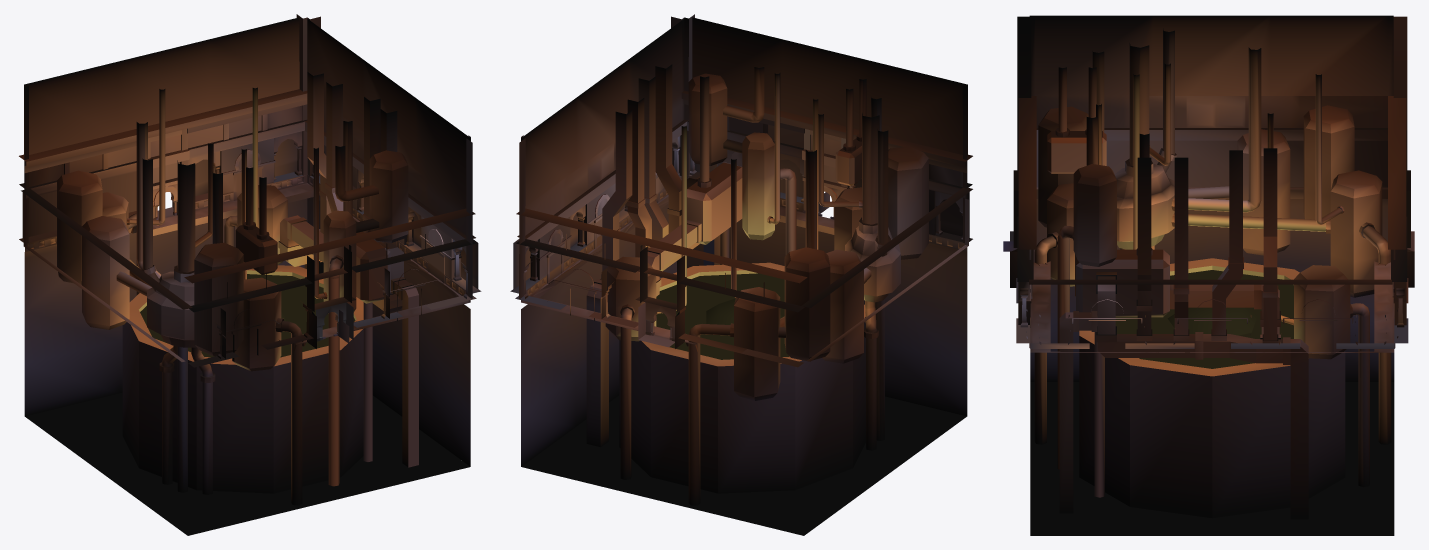
Rendered from 03Lava.gltf.
The picture shows the model from 3 angles, left to right: view 1: azimuth 30°, elevation 25°; view 2: azimuth 150°, elevation 25°; view 3: azimuth 270°, elevation 25°; orthographic projection. The views are drawn at different scales.
Visible parts, largest first — view 1: stg031_o32_Mesh_0074, stg031_o32_Mesh_0062, stg031_o32_Mesh_0008, stg031_o32_Mesh_0001, stg031_o32_Mesh_0000, stg031_o32_Mesh_0052, stg031_o32_Mesh_0056, stg031_o32_Mesh_0025, stg031_o32_Mesh_0033, stg031_o32_Mesh_0076, stg031_o32_Mesh_0077, stg031_o32_Mesh_0044 (+14 smaller); view 2: stg031_o32_Mesh_0074, stg031_o32_Mesh_0062, stg031_o32_Mesh_0001, stg031_o32_Mesh_0008, stg031_o32_Mesh_0000, stg031_o32_Mesh_0056, stg031_o32_Mesh_0052, stg031_g32_Mesh_0001, stg031_o32_Mesh_0025, stg031_o32_Mesh_0076, stg031_o32_Mesh_0033, stg031_o32_Mesh_0077 (+11 smaller); view 3: stg031_o32_Mesh_0074, stg031_o32_Mesh_0001, stg031_o32_Mesh_0062, stg031_o32_Mesh_0000, stg031_o32_Mesh_0008, stg031_o32_Mesh_0052, stg031_o32_Mesh_0056, stg031_o32_Mesh_0025, stg031_o32_Mesh_0058, stg031_g32_Mesh_0001, stg031_o32_Mesh_0077, stg031_o32_Mesh_0083 (+7 smaller).
Part boxes in pixels (box(x1,y1,x2,y2)): stg031_o32_Mesh_0074: box(57, 72, 418, 467); stg031_o32_Mesh_0062: box(24, 17, 468, 206); stg031_o32_Mesh_0008: box(24, 190, 470, 535); stg031_o32_Mesh_0001: box(122, 270, 363, 493); stg031_o32_Mesh_0000: box(116, 87, 379, 505); stg031_o32_Mesh_0052: box(19, 14, 481, 367); stg031_o32_Mesh_0056: box(24, 197, 470, 413); stg031_o32_Mesh_0025: box(127, 183, 413, 382); stg031_o32_Mesh_0033: box(29, 105, 465, 348); stg031_o32_Mesh_0076: box(135, 138, 478, 344); stg031_o32_Mesh_0077: box(148, 130, 466, 342); stg031_o32_Mesh_0044: box(26, 123, 478, 316); stg031_o32_Mesh_0074: box(586, 64, 928, 447); stg031_o32_Mesh_0062: box(523, 17, 967, 206); stg031_o32_Mesh_0001: box(619, 270, 865, 493); stg031_o32_Mesh_0008: box(521, 196, 967, 535); stg031_o32_Mesh_0000: box(620, 67, 888, 505); stg031_o32_Mesh_0056: box(521, 203, 967, 413); stg031_o32_Mesh_0052: box(510, 14, 972, 367); stg031_g32_Mesh_0001: box(656, 273, 789, 359); stg031_o32_Mesh_0025: box(594, 133, 890, 366); stg031_o32_Mesh_0076: box(513, 150, 969, 344); stg031_o32_Mesh_0033: box(526, 134, 962, 348); stg031_o32_Mesh_0077: box(525, 130, 841, 342); stg031_o32_Mesh_0074: box(1038, 105, 1382, 519); stg031_o32_Mesh_0001: box(1079, 265, 1345, 518); stg031_o32_Mesh_0062: box(1035, 15, 1388, 95); stg031_o32_Mesh_0000: box(1034, 28, 1391, 497); stg031_o32_Mesh_0008: box(1030, 199, 1394, 535); stg031_o32_Mesh_0052: box(1016, 15, 1408, 348); stg031_o32_Mesh_0056: box(1033, 206, 1387, 323); stg031_o32_Mesh_0025: box(1047, 128, 1374, 376); stg031_o32_Mesh_0058: box(1036, 140, 1387, 187); stg031_g32_Mesh_0001: box(1115, 270, 1293, 368); stg031_o32_Mesh_0077: box(1033, 261, 1391, 351); stg031_o32_Mesh_0083: box(1030, 109, 1387, 343).
Bounding box in the file's own units: 95.18 × 100 × 102.
